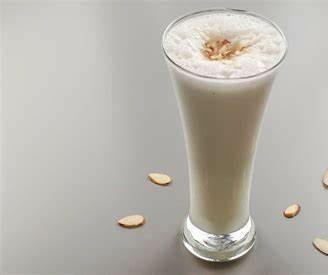Lassi: (163, 12, 284, 236)
